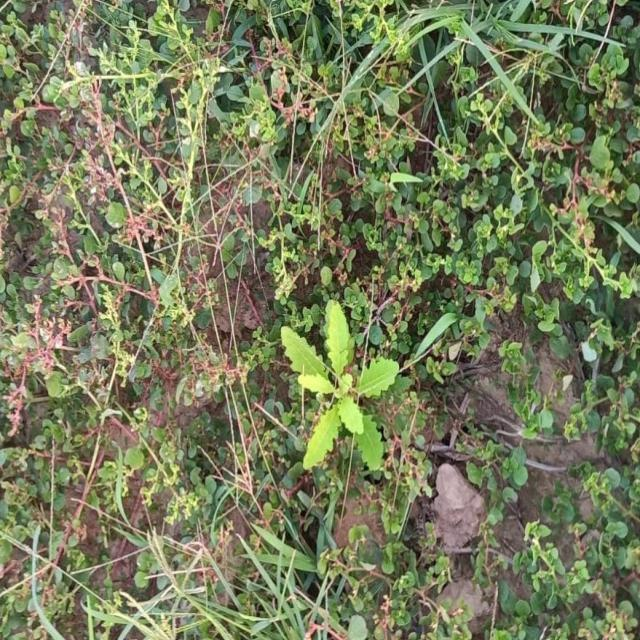weed: (283, 301, 400, 471)
